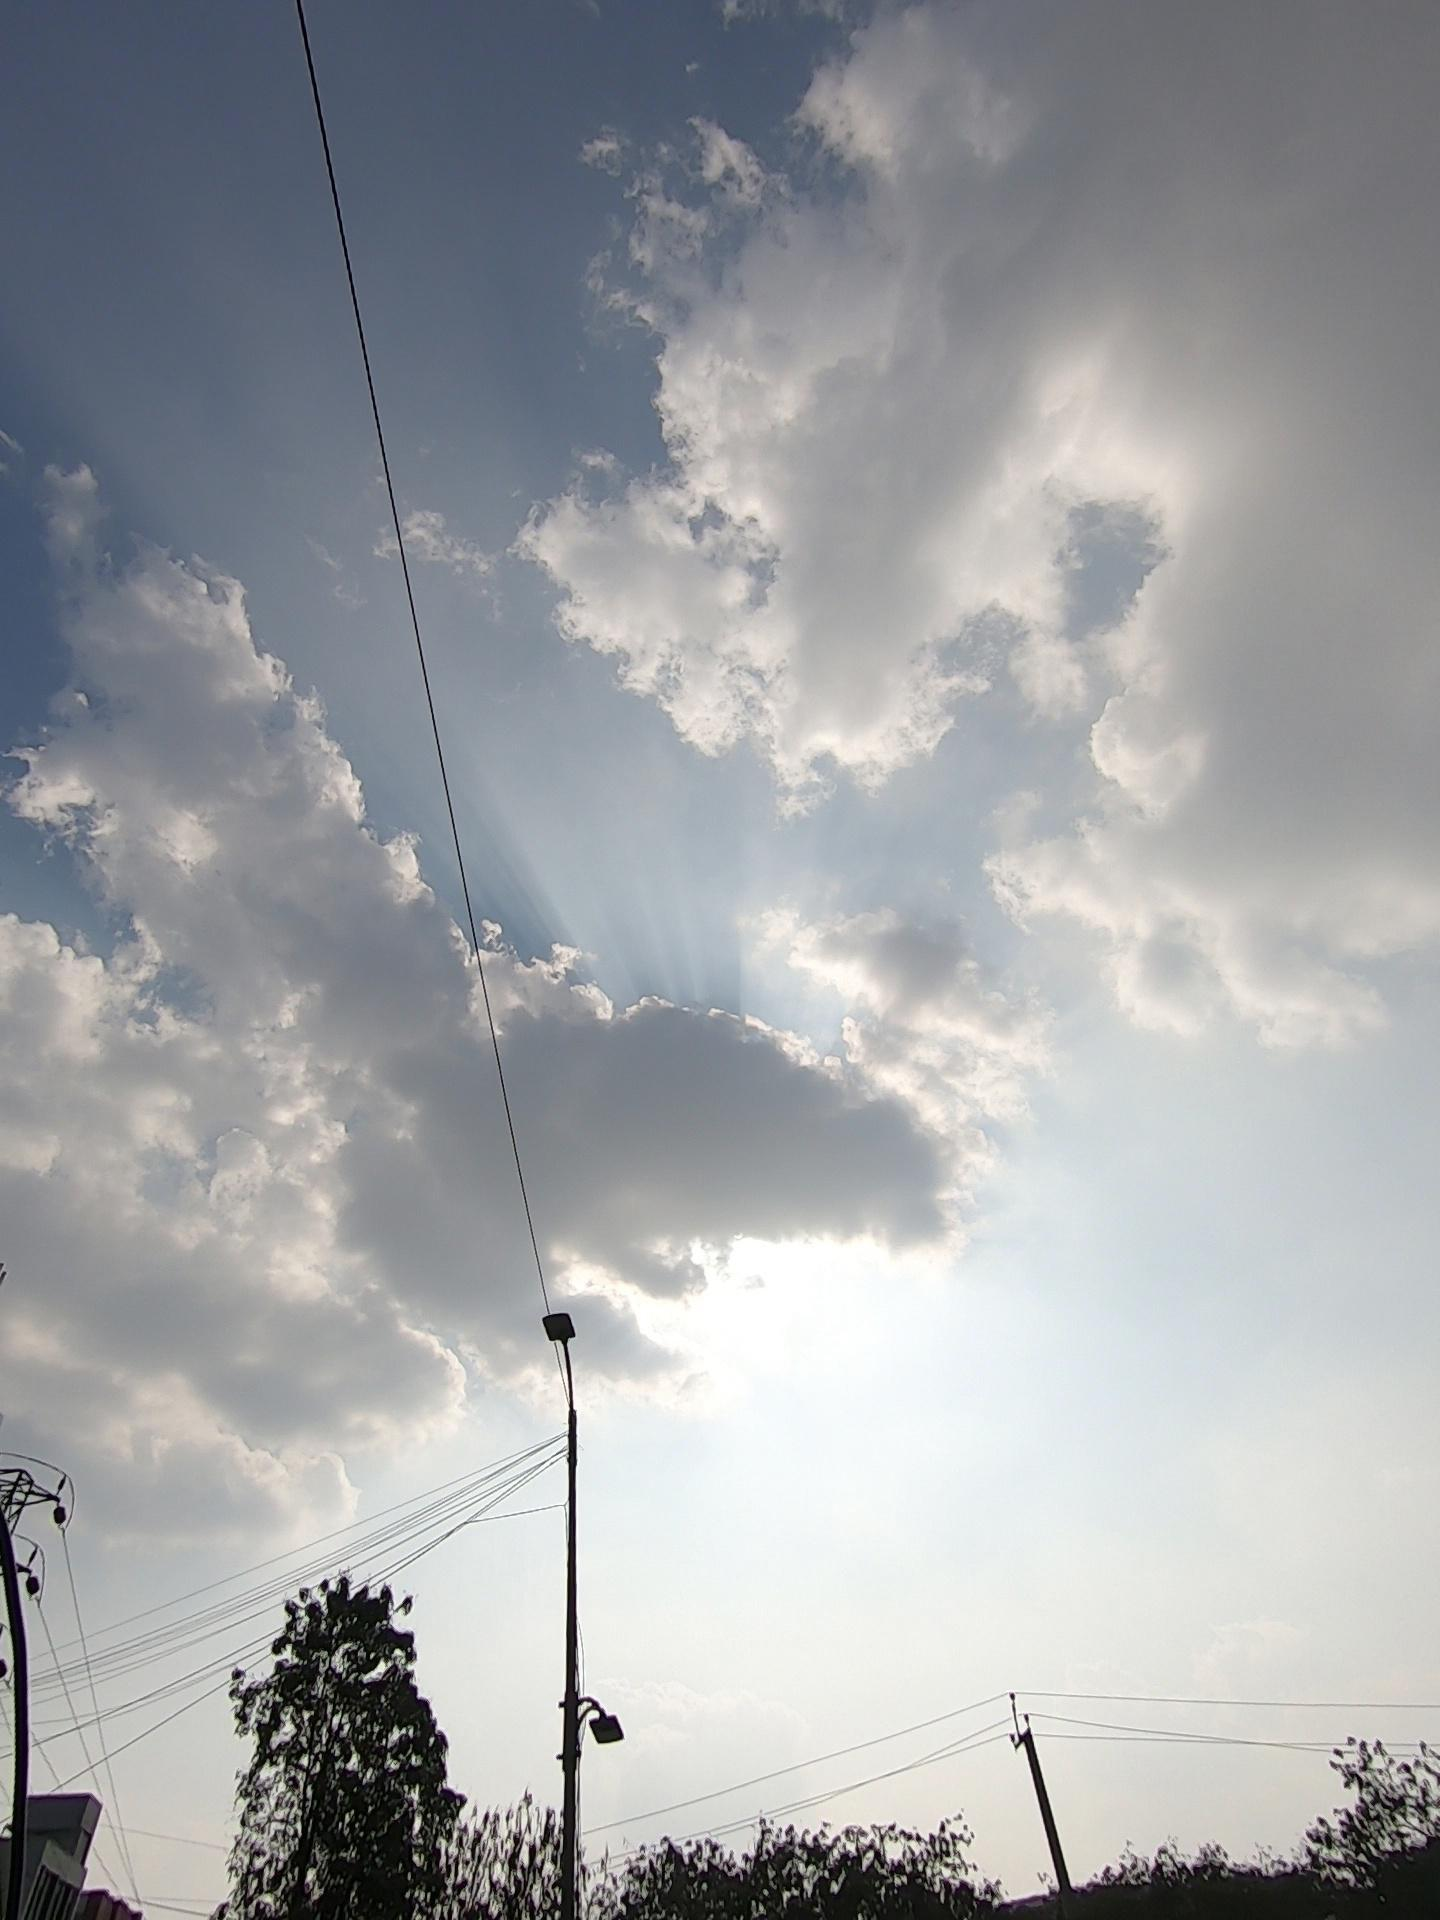off: (520, 1246, 628, 1820)
